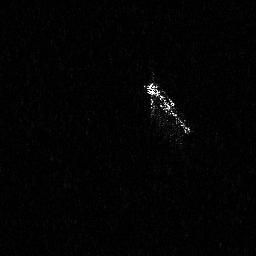ship: (142, 79, 191, 140)
